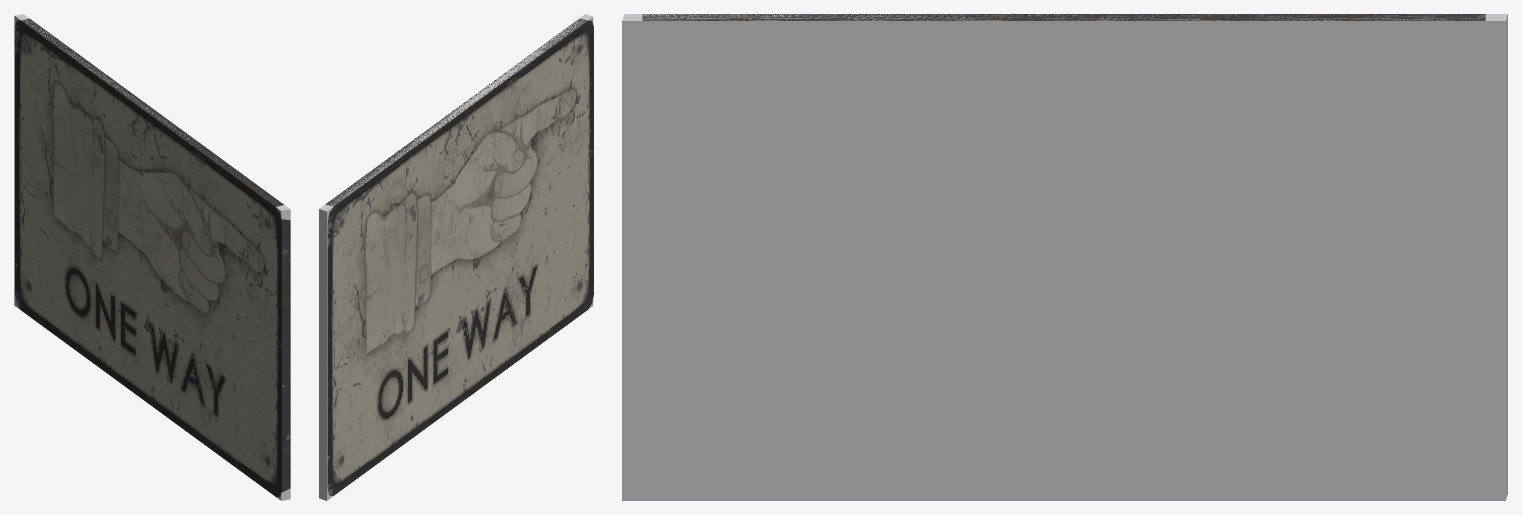
File: SM_WaySign_B.fbx
3 renders of one model, left to right at view 1: azimuth 30°, elevation 25°; view 2: azimuth 150°, elevation 25°; view 3: azimuth 270°, elevation 25°, orthographic. The views are drawn at different scales.
Visible parts, largest first — view 1: SM_WaySign_B_LOD0, SM_WaySign_B_ConvexHulls; view 2: SM_WaySign_B_LOD0, SM_WaySign_B_ConvexHulls; view 3: SM_WaySign_B_ConvexHulls, SM_WaySign_B_LOD0.
Boxes of the visible parts, bbox=[...] form: SM_WaySign_B_LOD0: bbox=[15, 18, 290, 496]; SM_WaySign_B_ConvexHulls: bbox=[14, 14, 290, 500]; SM_WaySign_B_LOD0: bbox=[325, 18, 593, 495]; SM_WaySign_B_ConvexHulls: bbox=[319, 14, 593, 500]; SM_WaySign_B_ConvexHulls: bbox=[622, 14, 1507, 500]; SM_WaySign_B_LOD0: bbox=[642, 14, 1485, 20].
Bounding box in the file's own units: 1.16 × 62.56 × 37.41.
